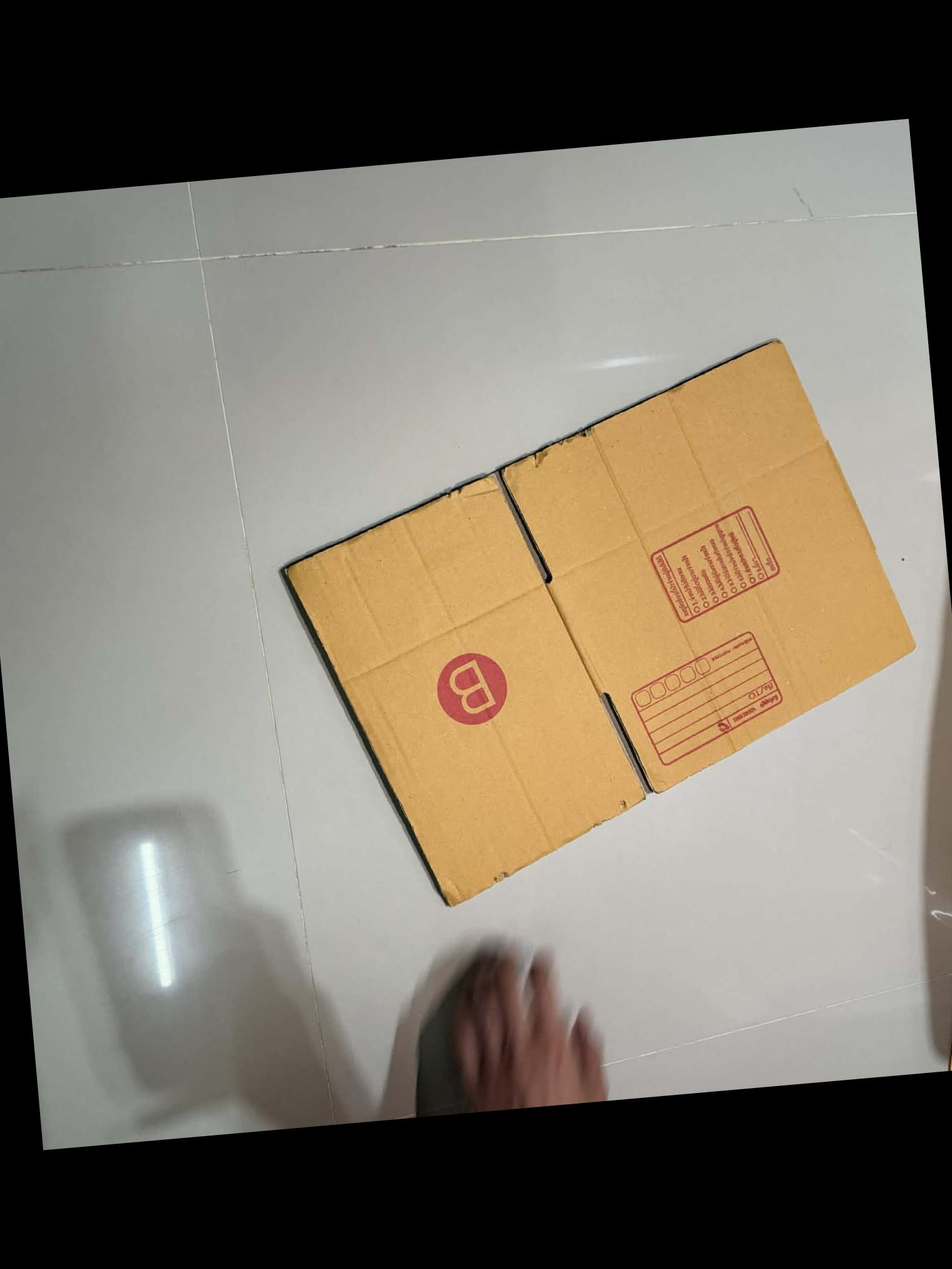box: (631, 630, 778, 769), (644, 496, 785, 632), (427, 640, 516, 736)
class0: (243, 305, 939, 914)
